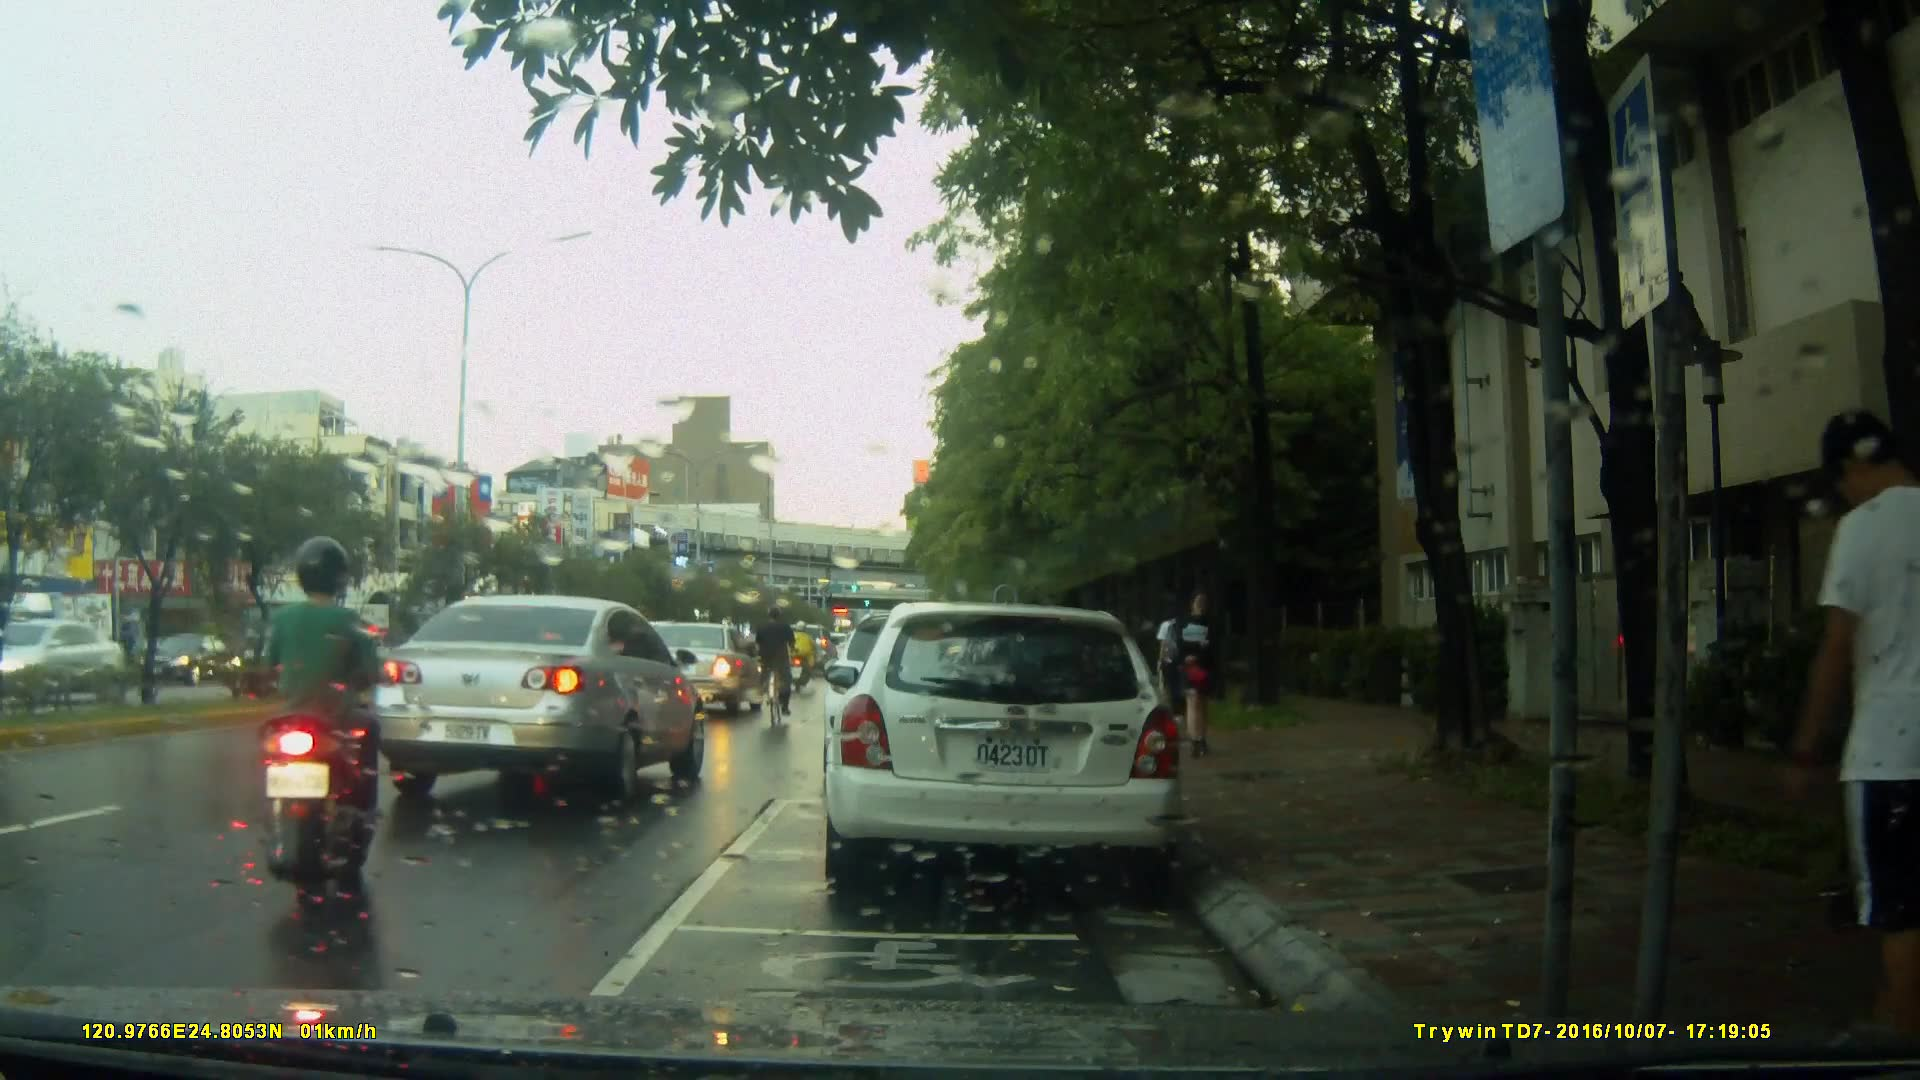pedestrian: (1167, 594, 1224, 751), (1146, 603, 1195, 732)
rider: (247, 533, 369, 935), (754, 606, 797, 741), (790, 615, 820, 694)
vehicle: (820, 602, 1188, 898), (372, 593, 711, 810), (618, 623, 766, 720), (1, 587, 129, 699), (3, 622, 142, 704), (134, 634, 239, 689)
